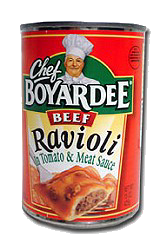grozi_90: (20, 21, 149, 232)
